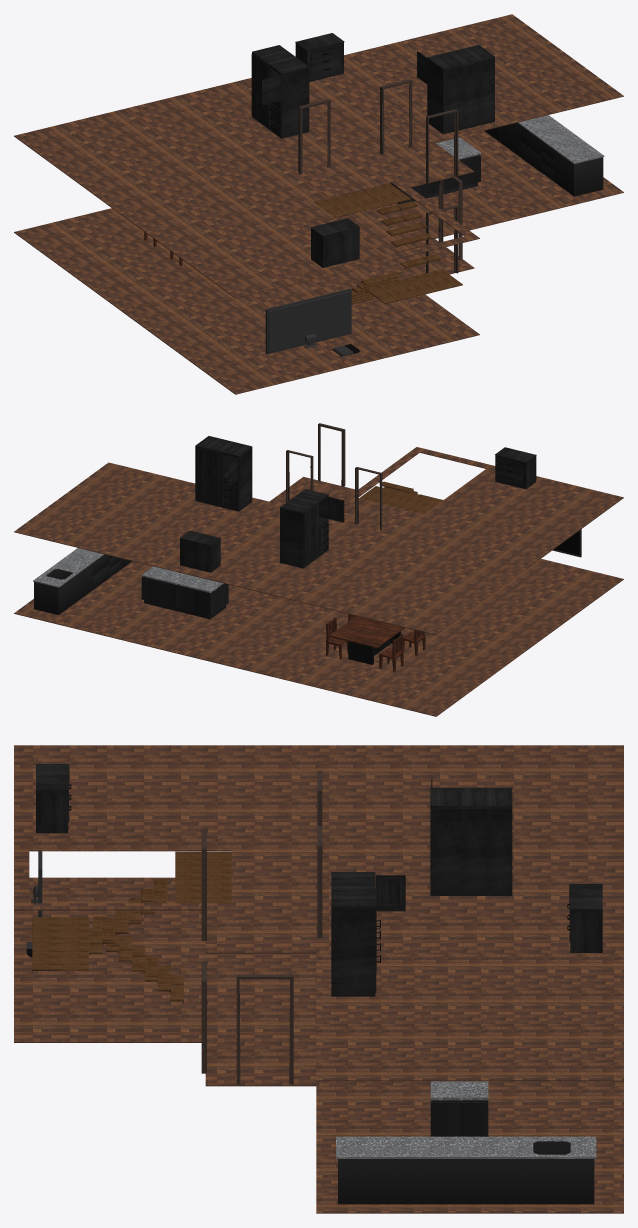
Rendered from brillosos.fbx.
The picture shows the model from 3 angles, top to bottom: view 1: azimuth 30°, elevation 25°; view 2: azimuth 150°, elevation 25°; view 3: azimuth 270°, elevation 25°; orthographic projection. The views are drawn at different scales.
Parts seen in each view (by area): view 1: P2_Piso, PB_piso, wood, Cube.004, Cube.002, TV, lavabo, Cube, lavabo.002, Cube.003, Counter_Face, MarcoPuertaCuartoB (+3 smaller); view 2: P2_Piso, PB_piso, Cube.004, Cube.002, lavabo, Mesa, Counter_Face, Cube, Cube.003, wood, lavabo.002, Counter_Top (+5 smaller); view 3: P2_Piso, PB_piso, lavabo, wood, Cube.002, Cube.004, lavabo.002, Cube, Cube.003, Counter_Face, MarcoPuertaPrincipal, Counter_Top (+3 smaller).
Part boxes in pixels (<box>): P2_Piso: <box>14,14,623,298</box>; PB_piso: <box>14,131,623,394</box>; wood: <box>314,183,462,304</box>; Cube.004: <box>417,45,494,134</box>; Cube.002: <box>251,45,309,138</box>; TV: <box>265,288,351,354</box>; lavabo: <box>484,123,603,196</box>; Cube: <box>310,218,359,267</box>; lavabo.002: <box>517,115,604,164</box>; Cube.003: <box>295,33,344,81</box>; Counter_Face: <box>390,156,480,198</box>; MarcoPuertaCuartoB: <box>298,99,330,174</box>; P2_Piso: <box>14,447,623,635</box>; PB_piso: <box>14,559,623,716</box>; Cube.004: <box>195,436,252,511</box>; Cube.002: <box>280,489,344,568</box>; lavabo: <box>34,554,131,614</box>; Mesa: <box>329,616,404,664</box>; Counter_Face: <box>141,578,228,616</box>; Cube: <box>495,447,536,489</box>; Cube.003: <box>179,530,221,572</box>; wood: <box>359,481,442,513</box>; lavabo.002: <box>33,548,104,587</box>; Counter_Top: <box>141,566,223,593</box>; P2_Piso: <box>14,745,623,1081</box>; PB_piso: <box>14,877,623,1213</box>; lavabo: <box>338,1141,594,1204</box>; wood: <box>32,851,231,1002</box>; Cube.002: <box>430,777,512,895</box>; Cube.004: <box>331,872,405,996</box>; lavabo.002: <box>336,1136,596,1158</box>; Cube: <box>36,764,71,833</box>; Cube.003: <box>567,884,602,952</box>; Counter_Face: <box>430,1100,488,1136</box>; MarcoPuertaPrincipal: <box>236,974,293,1084</box>; Counter_Top: <box>430,1081,488,1100</box>.
Size of the model in its own units: 1642 by 515 by 1264.
26 materials, 26 textured.
